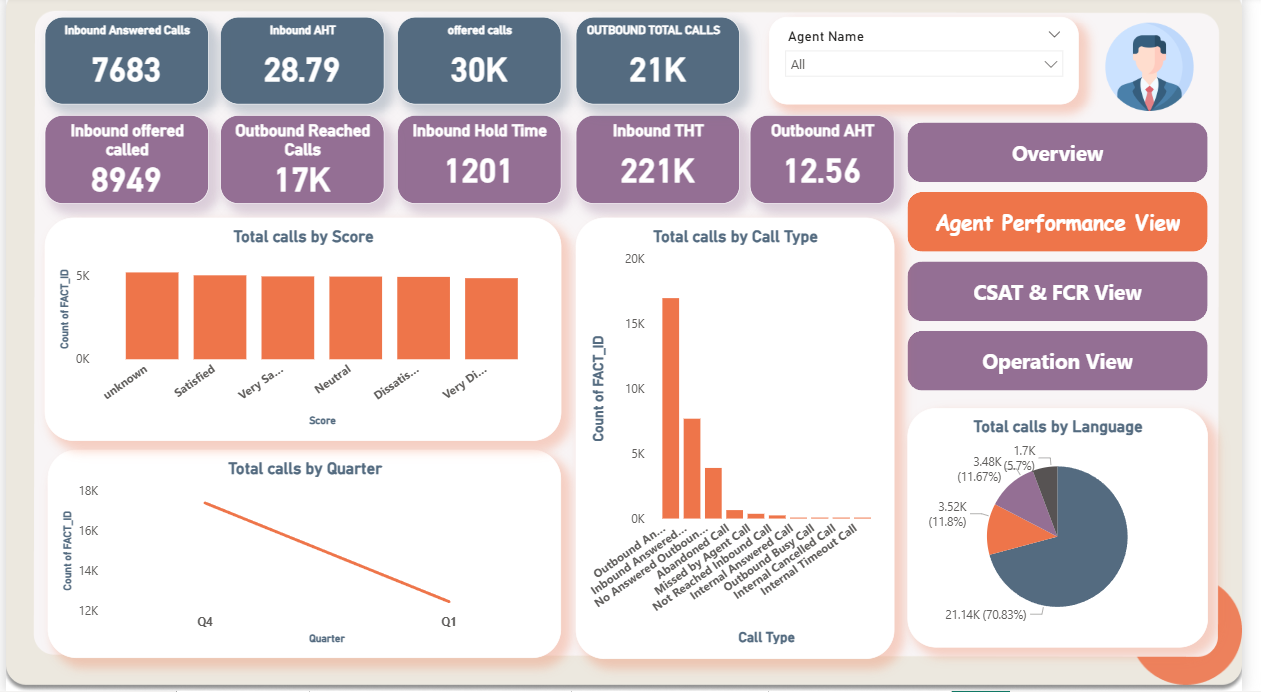

What the dashboard file says about the page in this screenshot:
{"tool":"powerbi","page":{"name":"Agent Performance View","canvas":[1280,720],"ordinal":1},"visuals":[{"type":"slicer","fields":{"Values":["Dim_Agents.Agent Name"]},"box":[791,21,321,91],"z":0},{"type":"image","box":[1134,21,101,103],"z":1000},{"type":"card","title":"Inbound AHT","fields":{"Values":["measuree.Inbound AHT"]},"box":[222,21,170,91],"z":2000},{"type":"card","title":"Inbound Answered Calls","fields":{"Values":["measuree.Inbound Answered Calls"]},"box":[40,21,170,91],"z":3000},{"type":"card","title":"Inbound Hold Time","fields":{"Values":["measuree.Inbound Hold Time"]},"box":[405,124,170,92],"z":4000},{"type":"card","title":"Inbound offered called","fields":{"Values":["measuree.Inbound offered called"]},"box":[40,124,170,92],"z":5000},{"type":"card","title":"Inbound THT","fields":{"Values":["measuree.Inbound THT"]},"box":[590,124,170,92],"z":6000},{"type":"card","title":"offered calls","fields":{"Values":["measuree.offered calls"]},"box":[405,21,170,91],"z":7000},{"type":"card","title":"Outbound AHT","fields":{"Values":["measuree.Outbound AHT"]},"box":[770,124,150,92],"z":8000},{"type":"card","title":"Outbound Reached Calls","fields":{"Values":["measuree.Outbound Reached Calls"]},"box":[222,124,170,92],"z":9000},{"type":"card","title":"OUTBOUND TOTAL CALLS","fields":{"Values":["measuree.Outbound Total Calls"]},"box":[590,21,170,91],"z":10000},{"type":"pageNavigator","box":[933,131,311,280],"z":11000},{"type":"lineChart","title":"Total calls by Quarter","fields":{"Category":["Dim_Date.Quarter"],"Y":["Fact_call.FACT_ID"]},"box":[43,470,532,216],"z":12000},{"type":"columnChart","title":"Total calls by Score","fields":{"Category":["Fact_call.Score"],"Y":["Fact_call.FACT_ID"]},"box":[40,229,535,231],"z":13000},{"type":"clusteredColumnChart","title":"Total calls by Call Type","fields":{"Y":["Fact_call.FACT_ID"],"Category":["Fact_call.Call Type"]},"box":[590,229,330,457],"z":14000},{"type":"pieChart","title":"Total calls by Language","fields":{"Category":["Dim_Queue.Language"],"Y":["Fact_call.FACT_ID"]},"box":[933,427,311,248],"z":15000}]}

Visuals, with their boxes in screenshot pixels (x1, y1, x2, y2), scaled from the page's 1280x720 canvas onto the 1261x692 screenshot:
slicer - Dim_Agents.Agent Name: [779, 20, 1095, 108]
image: [1117, 20, 1217, 119]
"Inbound AHT" card: [219, 20, 386, 108]
"Inbound Answered Calls" card: [39, 20, 207, 108]
"Inbound Hold Time" card: [399, 119, 566, 208]
"Inbound offered called" card: [39, 119, 207, 208]
"Inbound THT" card: [581, 119, 749, 208]
"offered calls" card: [399, 20, 566, 108]
"Outbound AHT" card: [759, 119, 906, 208]
"Outbound Reached Calls" card: [219, 119, 386, 208]
"OUTBOUND TOTAL CALLS" card: [581, 20, 749, 108]
pageNavigator: [919, 126, 1226, 395]
"Total calls by Quarter" lineChart: [42, 452, 566, 659]
"Total calls by Score" columnChart: [39, 220, 566, 442]
"Total calls by Call Type" clusteredColumnChart: [581, 220, 906, 659]
"Total calls by Language" pieChart: [919, 410, 1226, 649]
